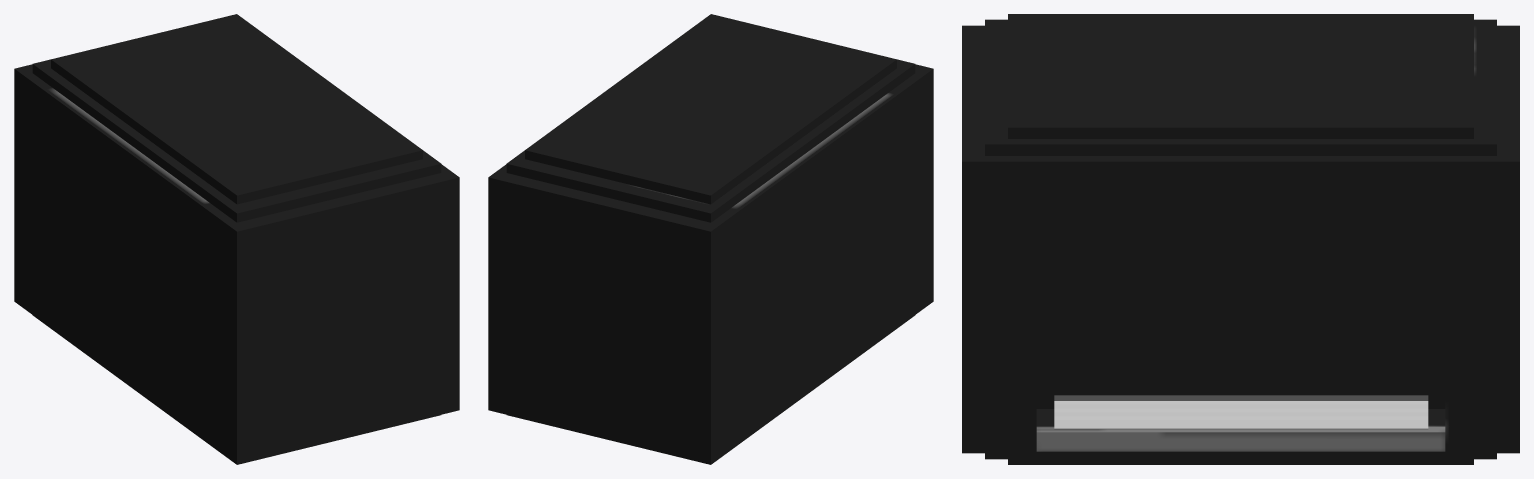
Rendered from Straw Holder 1.fbx.
3 views of the same model, side by side, from view 1: azimuth 30°, elevation 25°; view 2: azimuth 150°, elevation 25°; view 3: azimuth 270°, elevation 25° (orthographic). The views are drawn at different scales.
Parts seen in each view (by area): view 1: Straw_Holder; view 2: Straw_Holder; view 3: Straw_Holder, Straw, Straw_2, Straw_1, Straw_3.
Part boxes in pixels (bbox=[...]): Straw_Holder: bbox=[14, 14, 459, 464]; Straw_Holder: bbox=[488, 14, 933, 464]; Straw_Holder: bbox=[962, 14, 1519, 464]; Straw: bbox=[1054, 416, 1428, 429]; Straw_2: bbox=[1054, 400, 1428, 408]; Straw_1: bbox=[1054, 408, 1428, 416]; Straw_3: bbox=[1054, 395, 1428, 399].
Bounding box in the file's own units: 11.8 × 12.37 × 18.54.
Materials: 2 (2 with a texture image).
